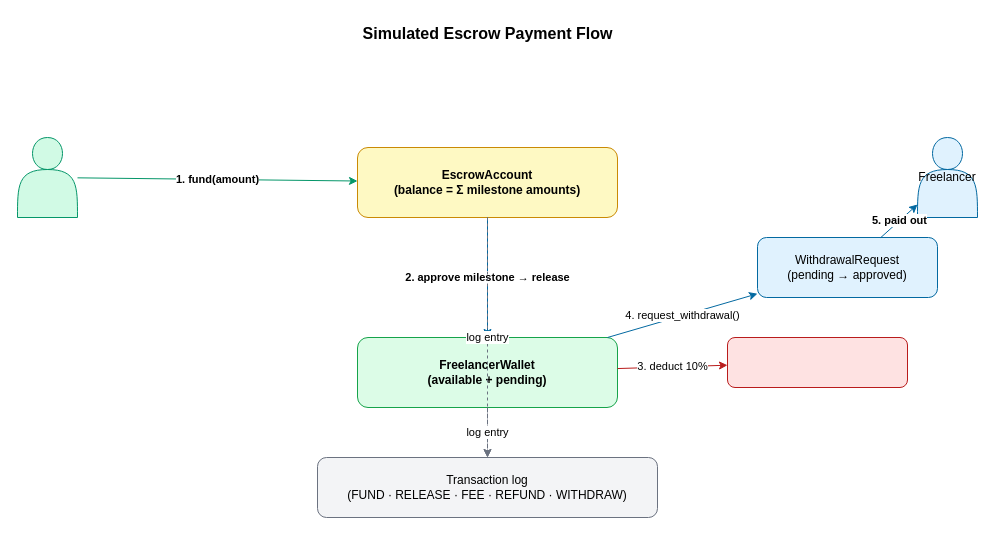
Some shapes in this 995 by 535 pixel diagram are drawn without their labels. Each missing label, with the centre of its shape:
Client: (x=47, y=177)
Platform fee (10%): (x=817, y=362)
